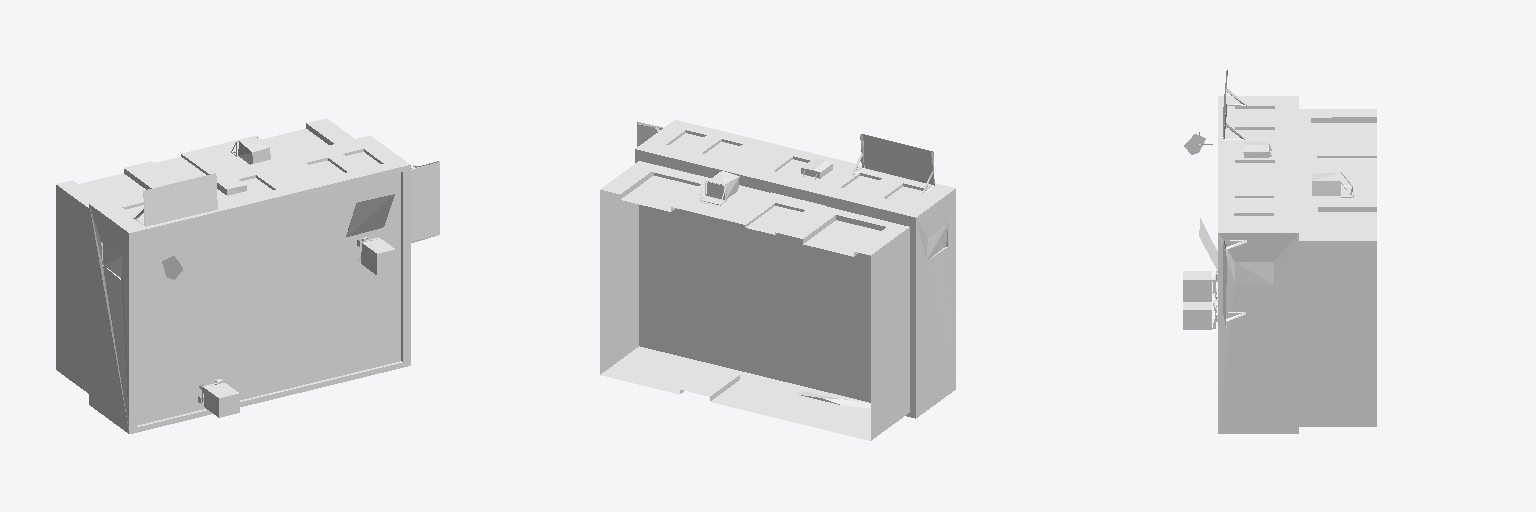
The model's file is building2LOD.obj.
The picture shows the model from 3 angles: view 1: azimuth 30°, elevation 25°; view 2: azimuth 150°, elevation 25°; view 3: azimuth 270°, elevation 25°; orthographic projection.
Visible parts, largest first — view 1: building2.001_LOD1.001_LOD1.001_LOD1.001_LOD1; view 2: building2.001_LOD1.001_LOD1.001_LOD1.001_LOD1; view 3: building2.001_LOD1.001_LOD1.001_LOD1.001_LOD1.
Boxes of the visible parts, <box> form: building2.001_LOD1.001_LOD1.001_LOD1.001_LOD1: <box>56,118,439,433</box>; building2.001_LOD1.001_LOD1.001_LOD1.001_LOD1: <box>600,120,955,440</box>; building2.001_LOD1.001_LOD1.001_LOD1.001_LOD1: <box>1183,70,1376,433</box>.
Bounding box in the file's own units: 1298 × 937 × 696.